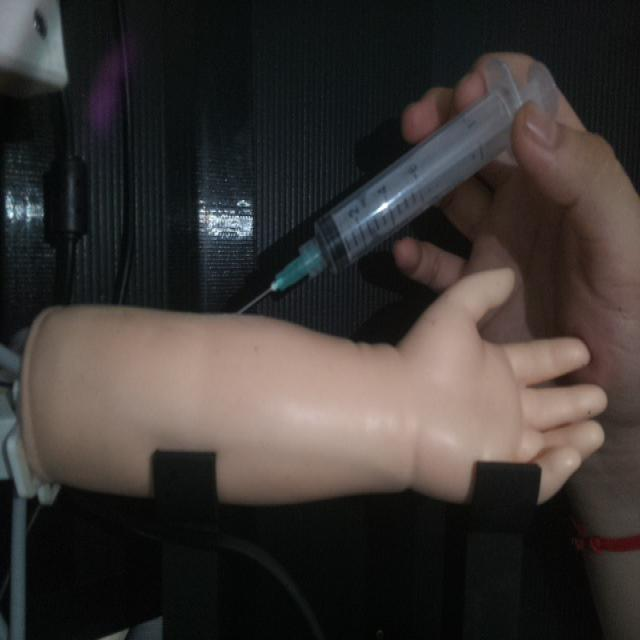Outside: (223, 51, 562, 319)
